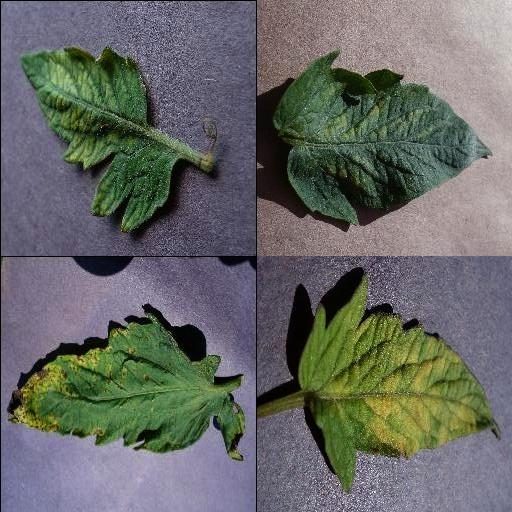Leaf Mold: (294, 274, 500, 494)
Mosaic Virus: (15, 45, 175, 231)
Septoria: (6, 312, 246, 459)
Spider Mites: (273, 50, 491, 224)
